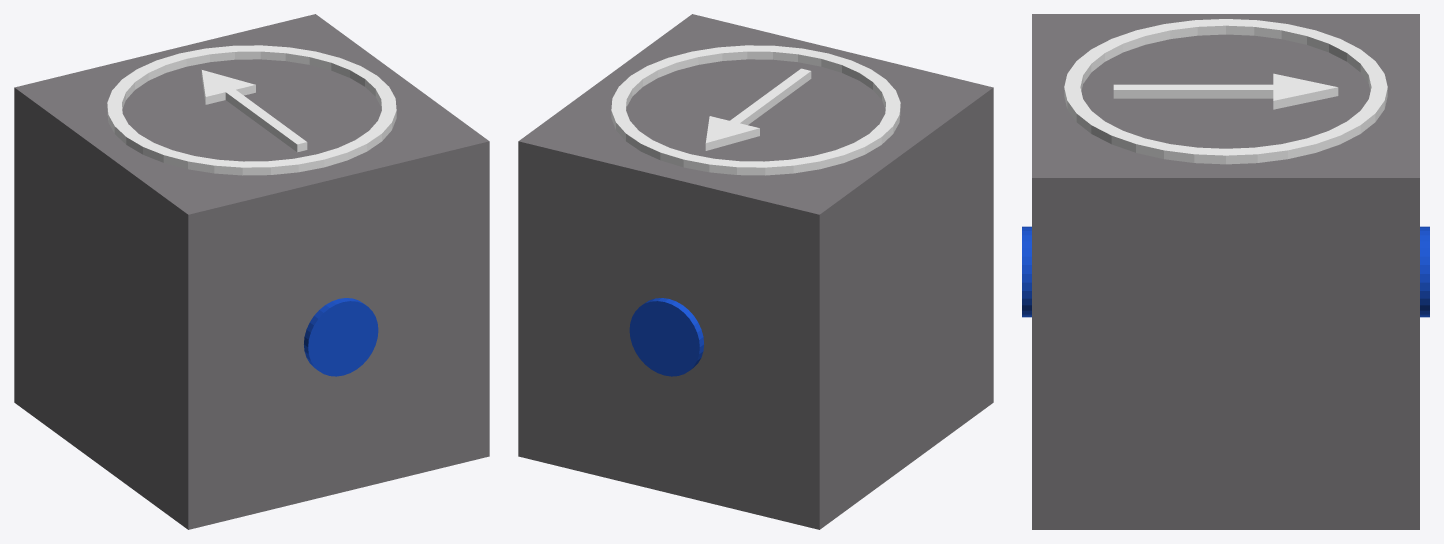
File: current_source_off.fbx
The picture shows the model from 3 angles, left to right: view 1: azimuth 30°, elevation 25°; view 2: azimuth 150°, elevation 25°; view 3: azimuth 270°, elevation 25°; orthographic projection. The views are drawn at different scales.
Visible parts, largest first — view 1: Cube, Cylinder.001, Cylinder.002, Cylinder; view 2: Cube, Cylinder.001, Cylinder.003, Cylinder; view 3: Cube, Cylinder.001, Cylinder, Cylinder.002, Cylinder.003.
Boxes of the visible parts, bbox=[...] form: Cube: bbox=[14, 14, 489, 529]; Cylinder.001: bbox=[107, 45, 396, 175]; Cylinder.002: bbox=[304, 298, 378, 376]; Cylinder: bbox=[201, 70, 307, 152]; Cube: bbox=[518, 14, 993, 529]; Cylinder.001: bbox=[611, 45, 900, 175]; Cylinder.003: bbox=[629, 298, 703, 376]; Cylinder: bbox=[705, 68, 811, 150]; Cube: bbox=[1032, 14, 1419, 529]; Cylinder.001: bbox=[1064, 19, 1387, 164]; Cylinder: bbox=[1113, 73, 1338, 109]; Cylinder.002: bbox=[1022, 226, 1031, 317]; Cylinder.003: bbox=[1420, 226, 1429, 317].
Bounding box in the file's own units: 600 × 615 × 630.
